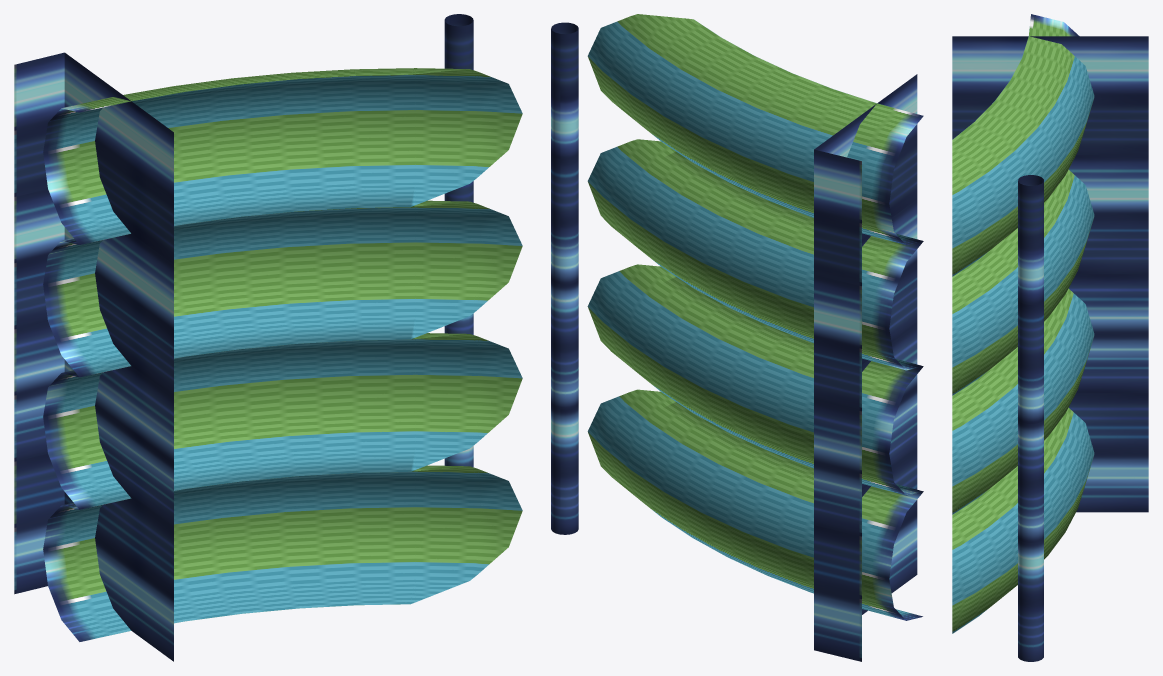
Rendered from tng_core_b.obj.
3 renders of one model, left to right at view 1: azimuth 30°, elevation 25°; view 2: azimuth 150°, elevation 25°; view 3: azimuth 270°, elevation 25°, orthographic. The views are drawn at different scales.
Parts seen in each view (by area): view 1: WarpGroupB_meshB; view 2: WarpGroupB_meshB; view 3: WarpGroupB_meshB.
Boxes of the visible parts, x1,y1,x2,y2 form: WarpGroupB_meshB: [14, 14, 522, 661]; WarpGroupB_meshB: [551, 14, 923, 661]; WarpGroupB_meshB: [952, 14, 1148, 661].
Bounding box in the file's own units: 0.7892 × 1 × 0.374.
